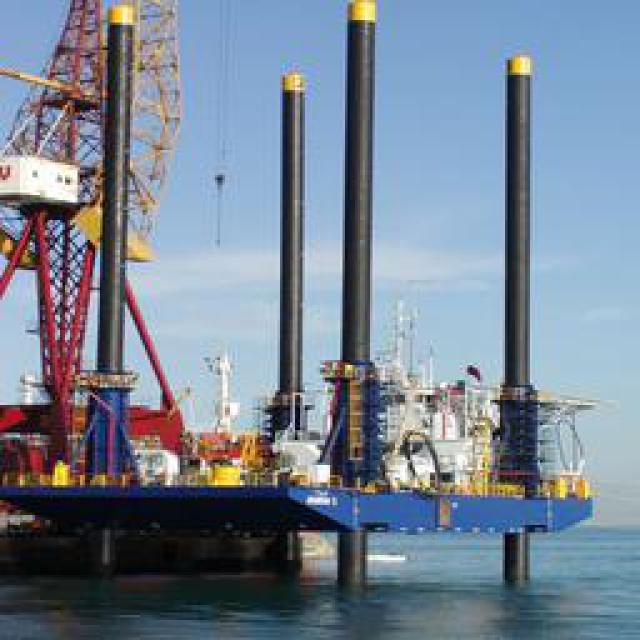Ship: (7, 264, 605, 574)
